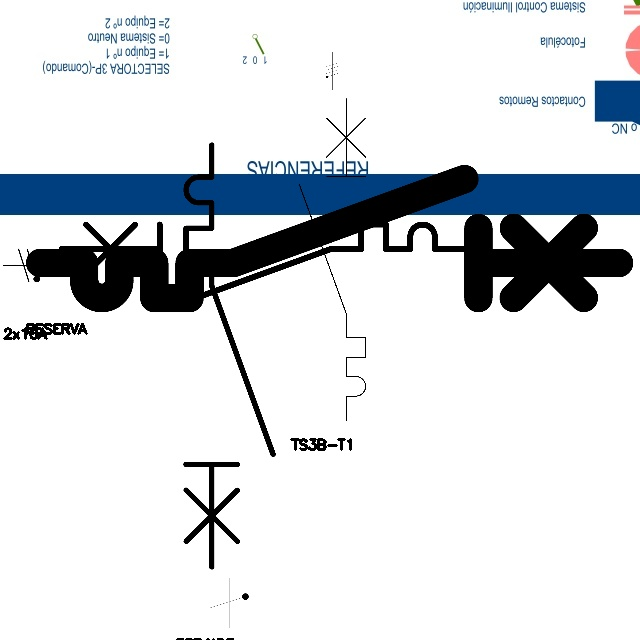interruptor_termomagnetico: (25, 164, 634, 313), (175, 134, 283, 578), (51, 214, 476, 318), (291, 90, 374, 429)
